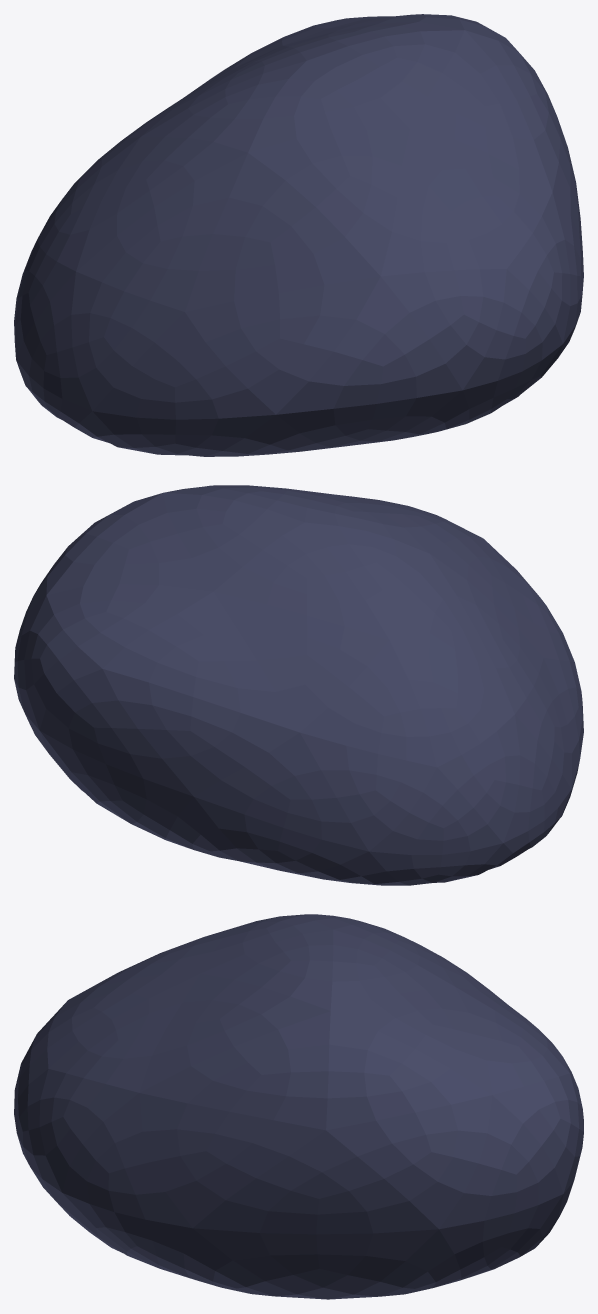
Rendered from Roca.fbx.
The picture shows the model from 3 angles, top to bottom: view 1: azimuth 30°, elevation 25°; view 2: azimuth 150°, elevation 25°; view 3: azimuth 270°, elevation 25°; orthographic projection. The views are drawn at different scales.
Visible parts, largest first — view 1: Icosphere; view 2: Icosphere; view 3: Icosphere.
Part boxes in pixels (x1,y1,x2,y2): Icosphere: (14, 14, 583, 456); Icosphere: (14, 485, 583, 885); Icosphere: (14, 914, 583, 1299).
Size of the model in its own units: 237 by 143 by 231.
